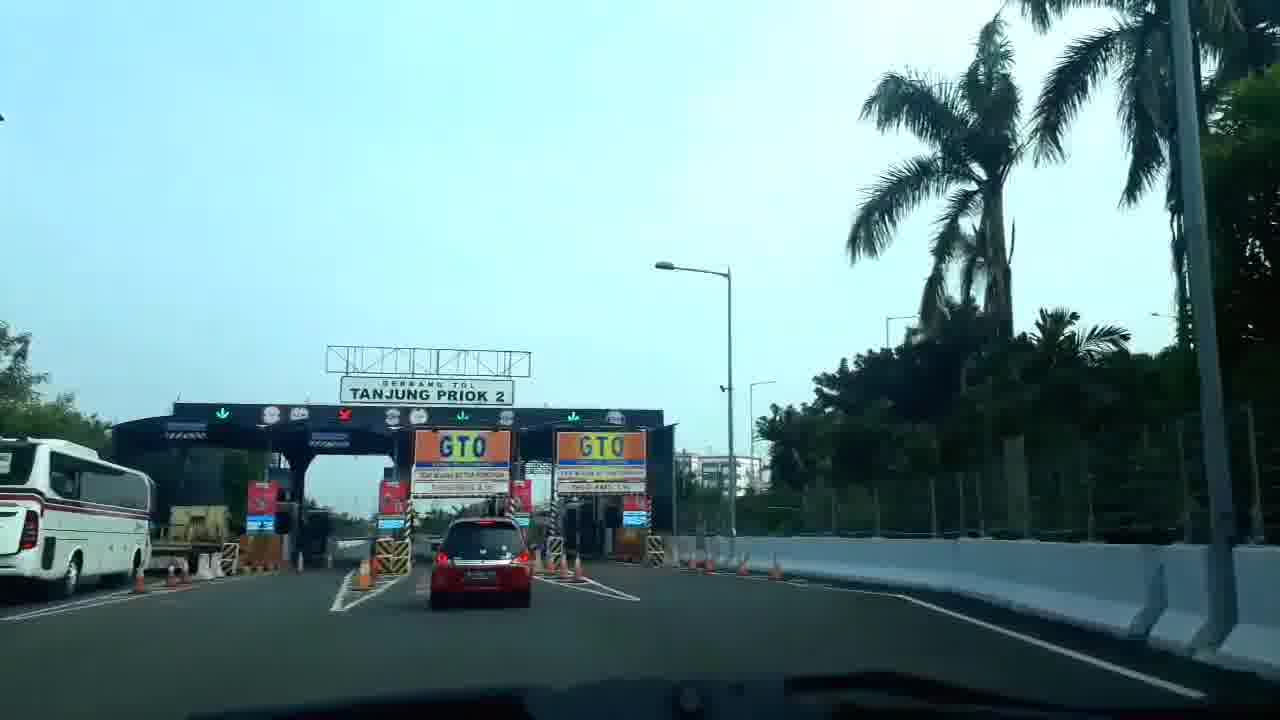plate_positive: (464, 571, 497, 581)
